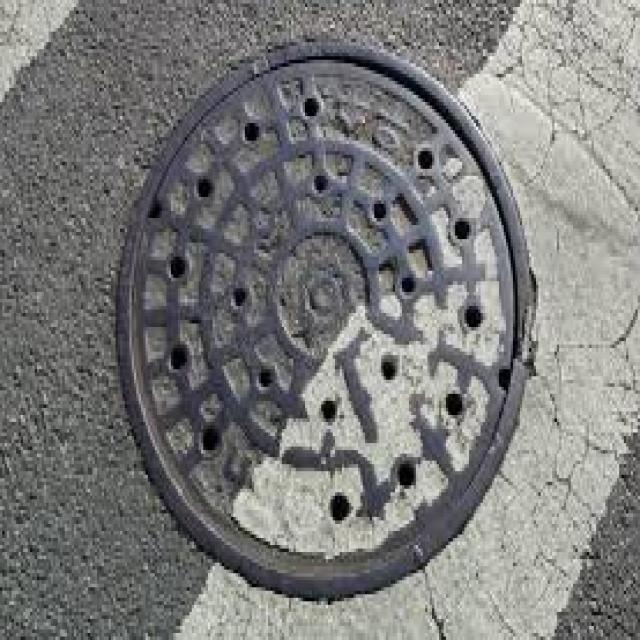manhole: (58, 29, 550, 638)
